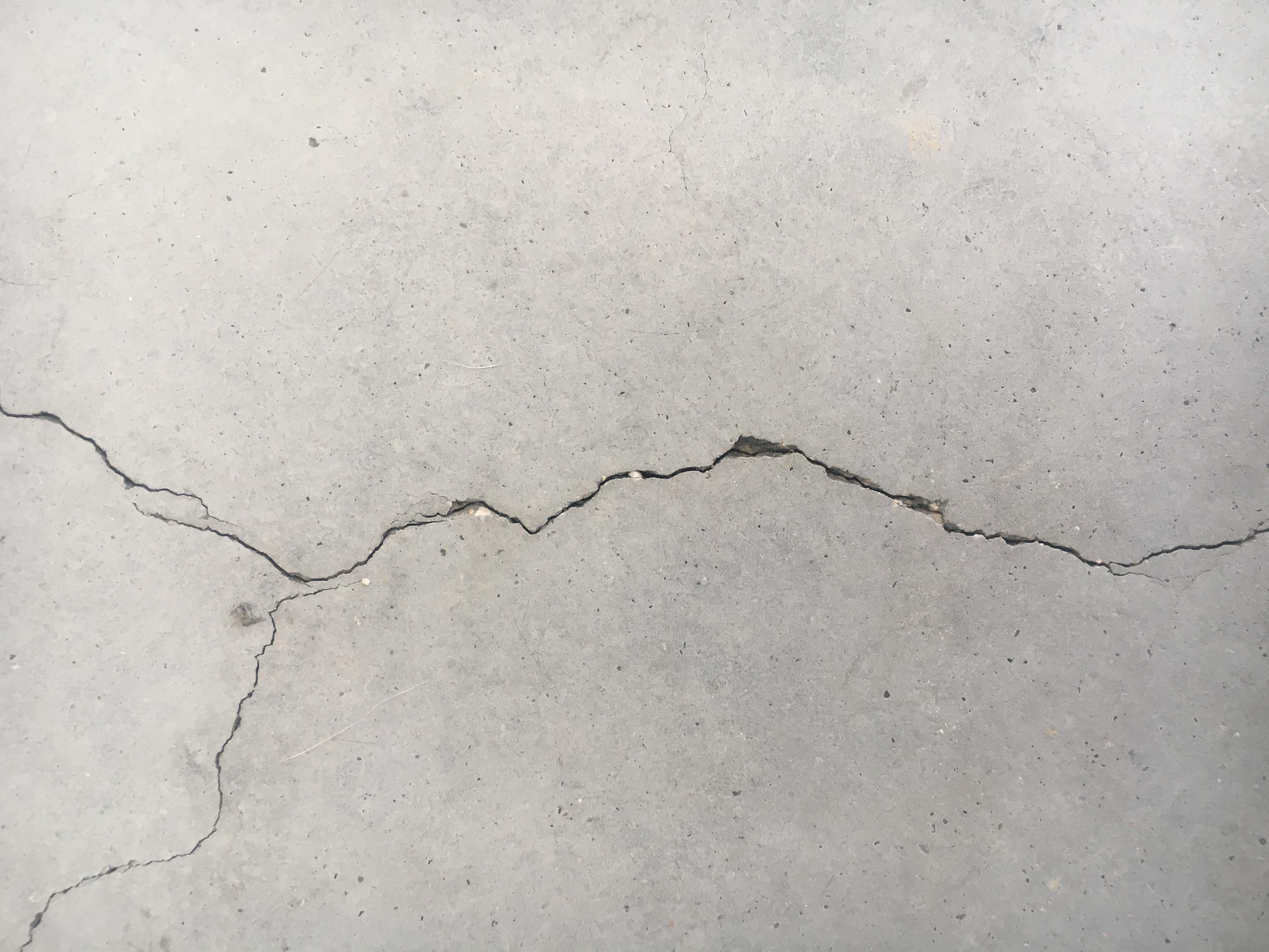Structural-Crack: (4, 404, 1266, 944)
